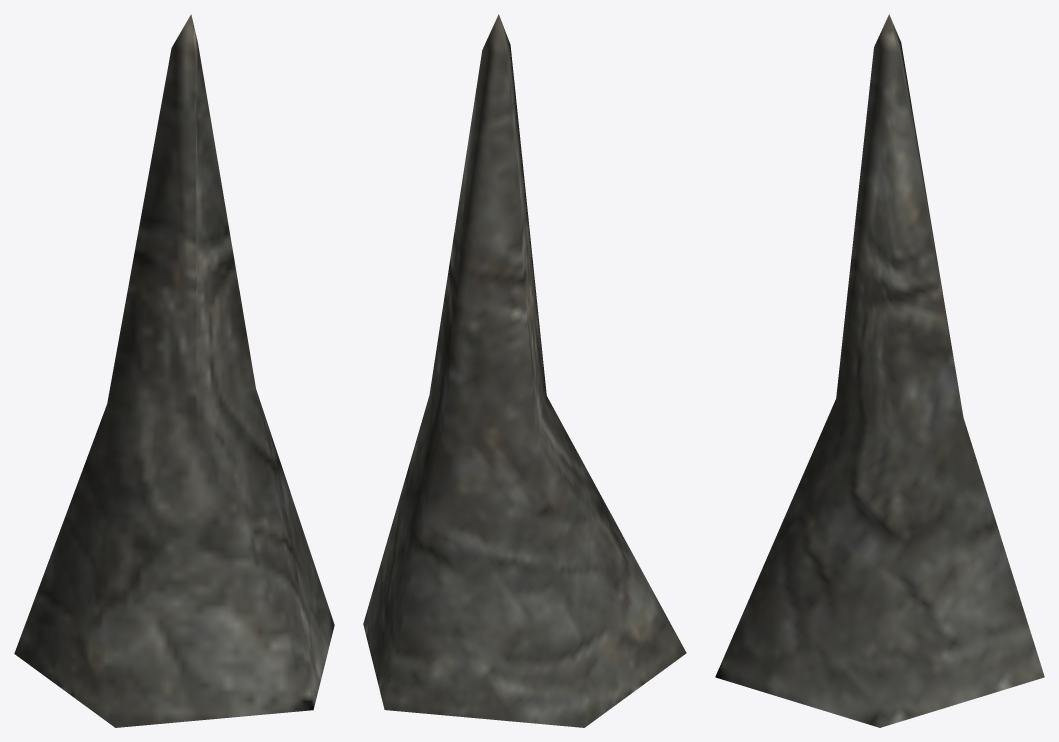
Rendered from Stal5_LOD1.fbx.
3 views of the same model, side by side, from view 1: azimuth 30°, elevation 25°; view 2: azimuth 150°, elevation 25°; view 3: azimuth 270°, elevation 25° (orthographic).
Parts seen in each view (by area): view 1: pCylinder23; view 2: pCylinder23; view 3: pCylinder23.
Part boxes in pixels (bbox=[...]): pCylinder23: bbox=[14, 14, 334, 727]; pCylinder23: bbox=[363, 14, 686, 727]; pCylinder23: bbox=[715, 14, 1044, 727].
Size of the model in its own units: 0.8808 by 2 by 0.9262.
